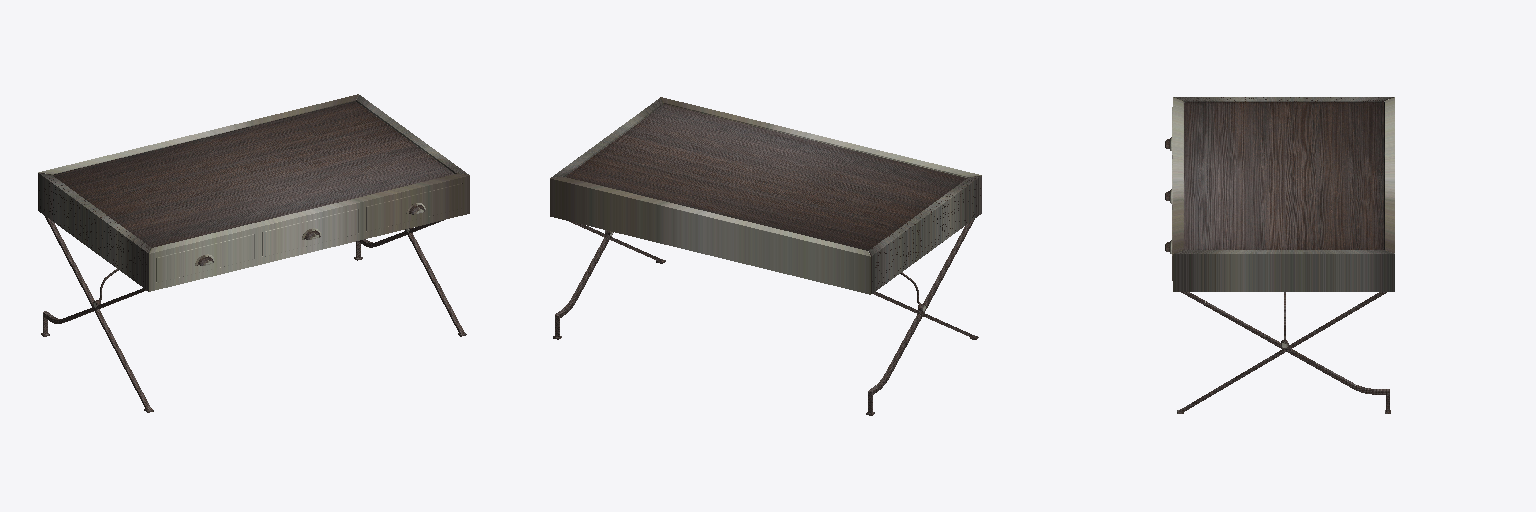
The picture shows the model from 3 angles: view 1: azimuth 30°, elevation 25°; view 2: azimuth 150°, elevation 25°; view 3: azimuth 270°, elevation 25°; orthographic projection.
Visible parts, largest first — view 1: Page_5_Table; view 2: Page_5_Table; view 3: Page_5_Table.
Part boxes in pixels (x1,y1,x2,y2): Page_5_Table: (38,94,469,412); Page_5_Table: (550,97,981,415); Page_5_Table: (1165,97,1394,413).
Bounding box in the file's own units: 49.97 × 23.98 × 31.04.
Materials: 1 (1 with a texture image).